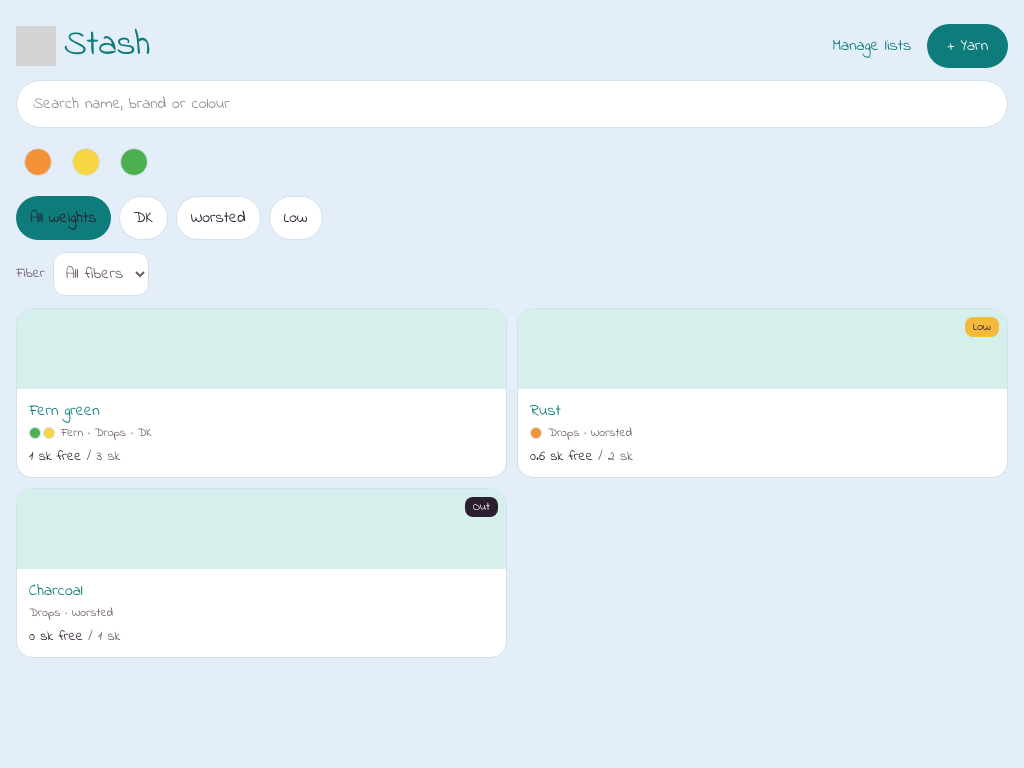
Test: filters by weight and low stock
What coordinates should you click on to do the following:
click the button "DK"
I would click on:
 (143, 218)
Its box is [119, 196, 168, 240].
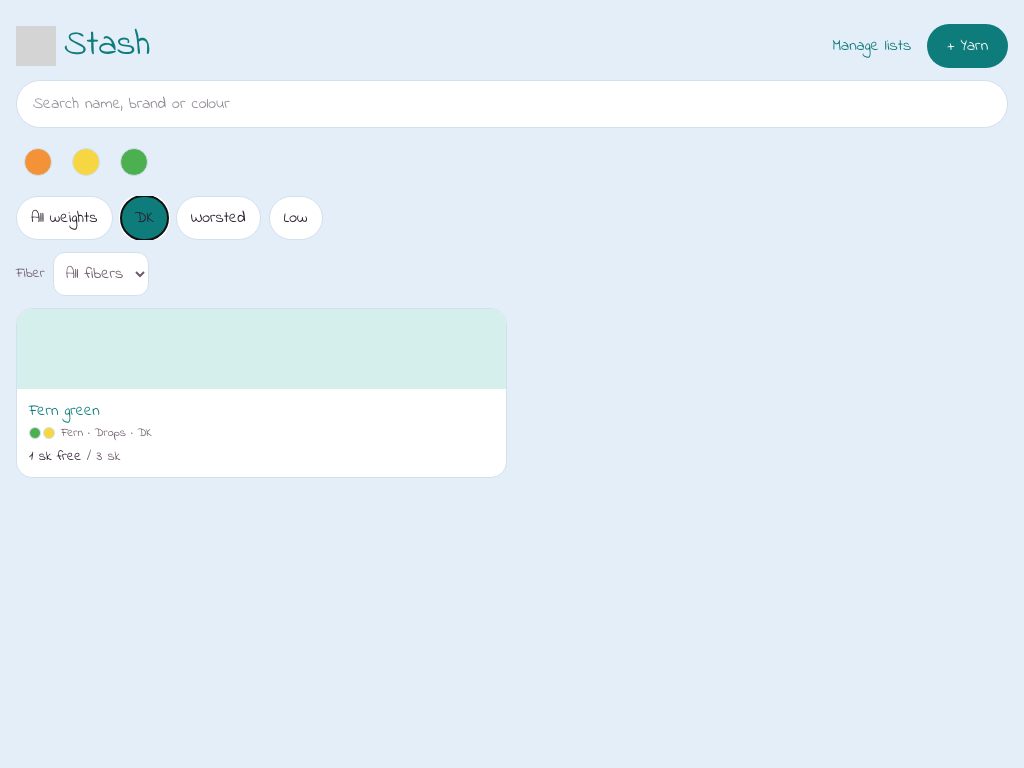
Expected: the link "Rust" is gone
What coordinates should you click on to do the following:
click the button "All weights"
I would click on:
 (64, 218)
Its box is [16, 196, 113, 240].
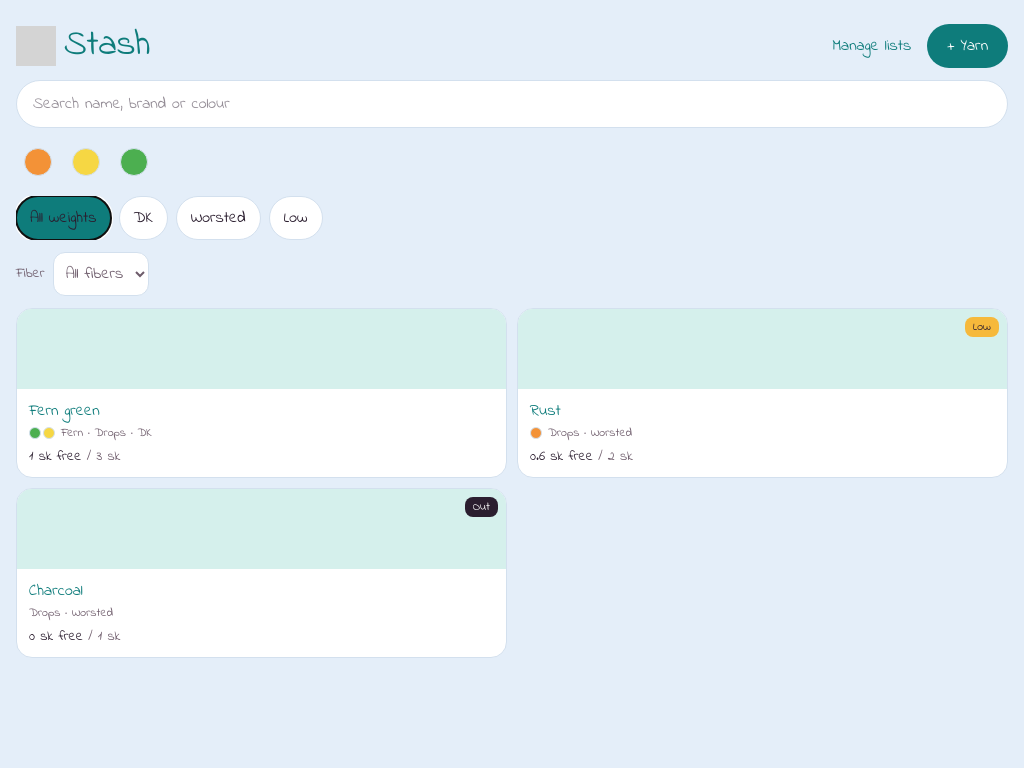
What coordinates should you click on to do the following:
click the button "Low"
I would click on:
 (296, 218)
Its box is [269, 196, 322, 240].
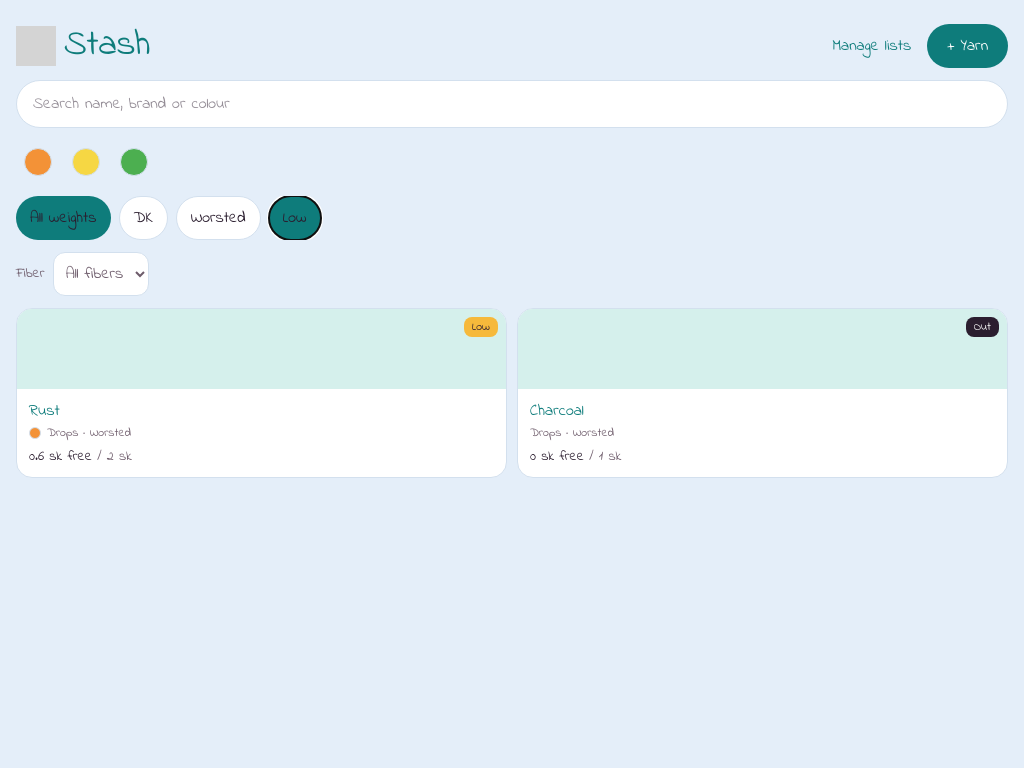
Expected: the link "Low Rust Drops · Worsted 0.6 sk free / 2 sk" is shown, [16, 308, 507, 478]
Expected: the link "Fern green" is gone
